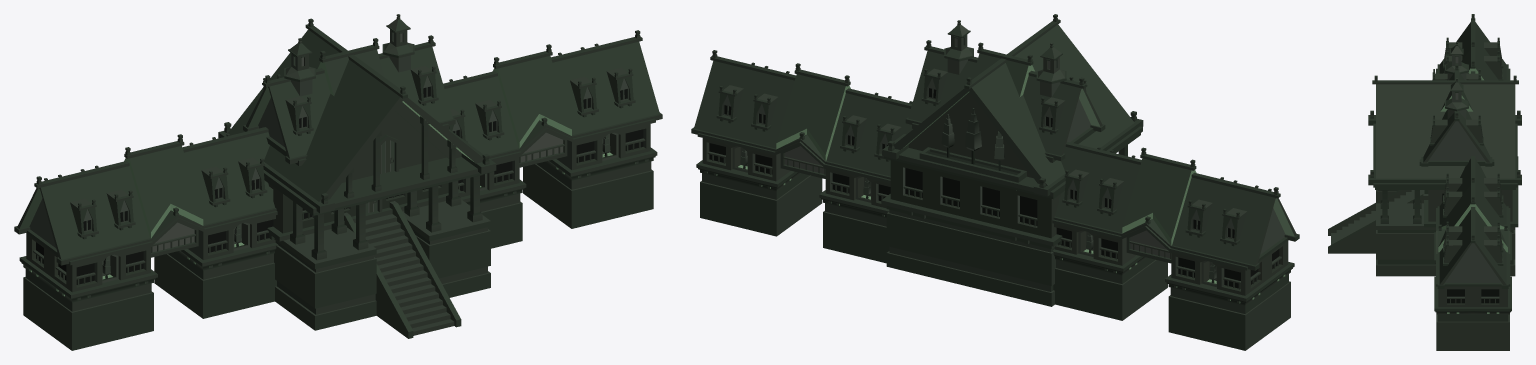
File: SF_Bld_Elven_House_07.glb
3 views of the same model, side by side, from view 1: azimuth 30°, elevation 25°; view 2: azimuth 150°, elevation 25°; view 3: azimuth 270°, elevation 25° (orthographic). The views are drawn at different scales.
Visible parts, largest first — view 1: SF_Bld_Elven_House_07; view 2: SF_Bld_Elven_House_07; view 3: SF_Bld_Elven_House_07.
Boxes of the visible parts, x1,y1,x2,y2 form: SF_Bld_Elven_House_07: (14,14,662,350); SF_Bld_Elven_House_07: (691,14,1299,350); SF_Bld_Elven_House_07: (1328,14,1521,350).
Size of the model in its own units: 0.919 by 0.353 by 0.3381.
Materials: 1 (1 with a texture image).
